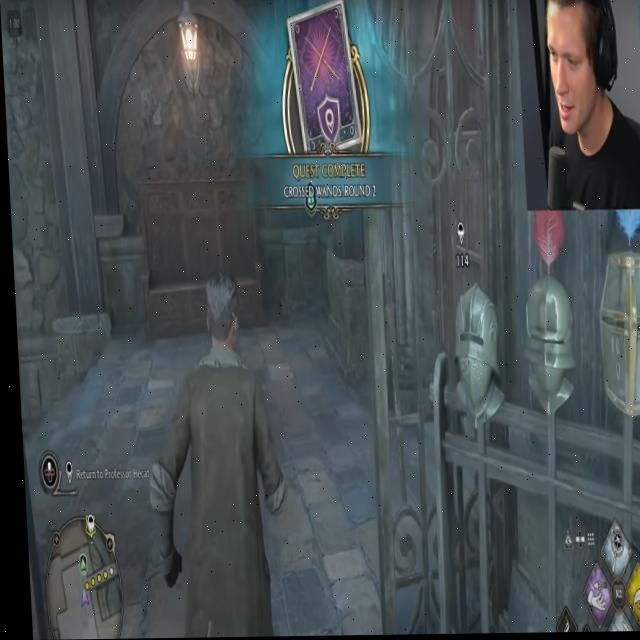compass: (60, 460, 69, 487), (454, 222, 463, 248), (81, 514, 90, 539)
